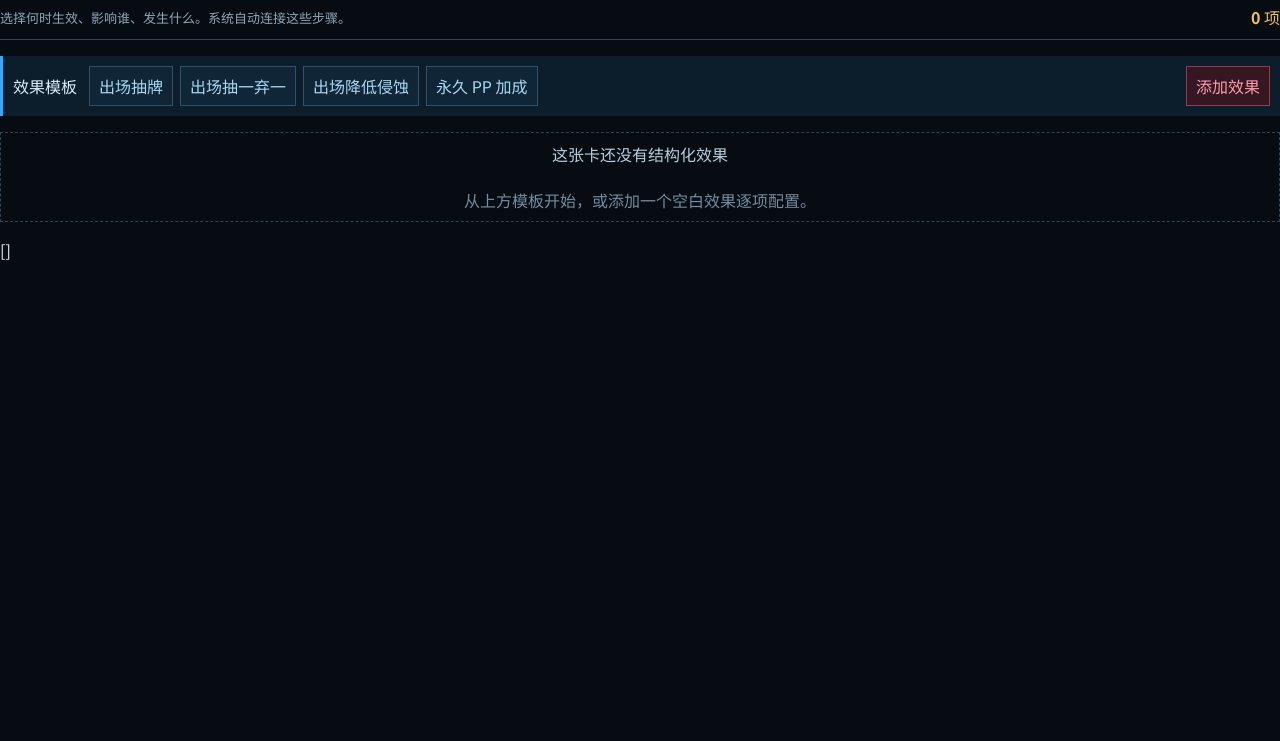
Test: EffectBuilder › marks incomplete and unsupported custom nodes as blocking
Step 1. Click the button "添加效果" → {"x": 1228, "y": 86}, box [1186,66,1270,106]
(page scrolled)
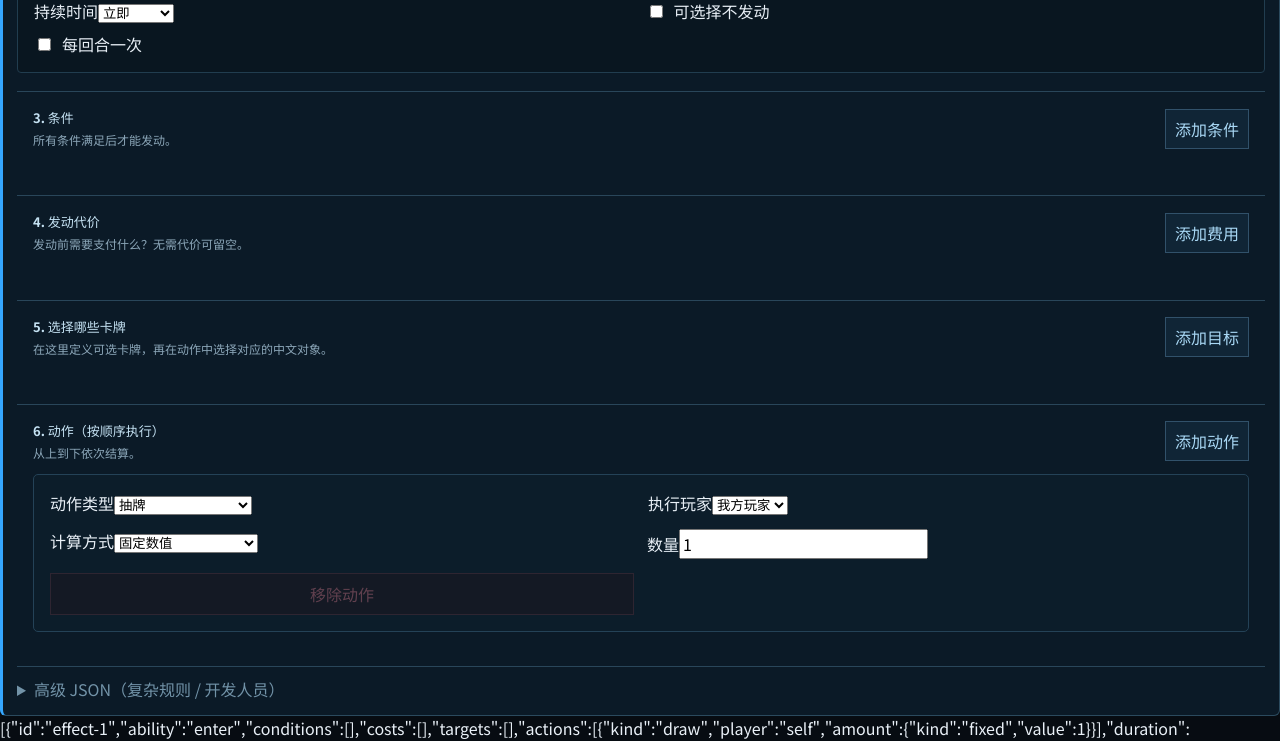
Step 2. Select "特殊规则" in the dropdown labelled "动作类型" → {"x": 183, "y": 506}, box [114,496,252,515]
(page scrolled)
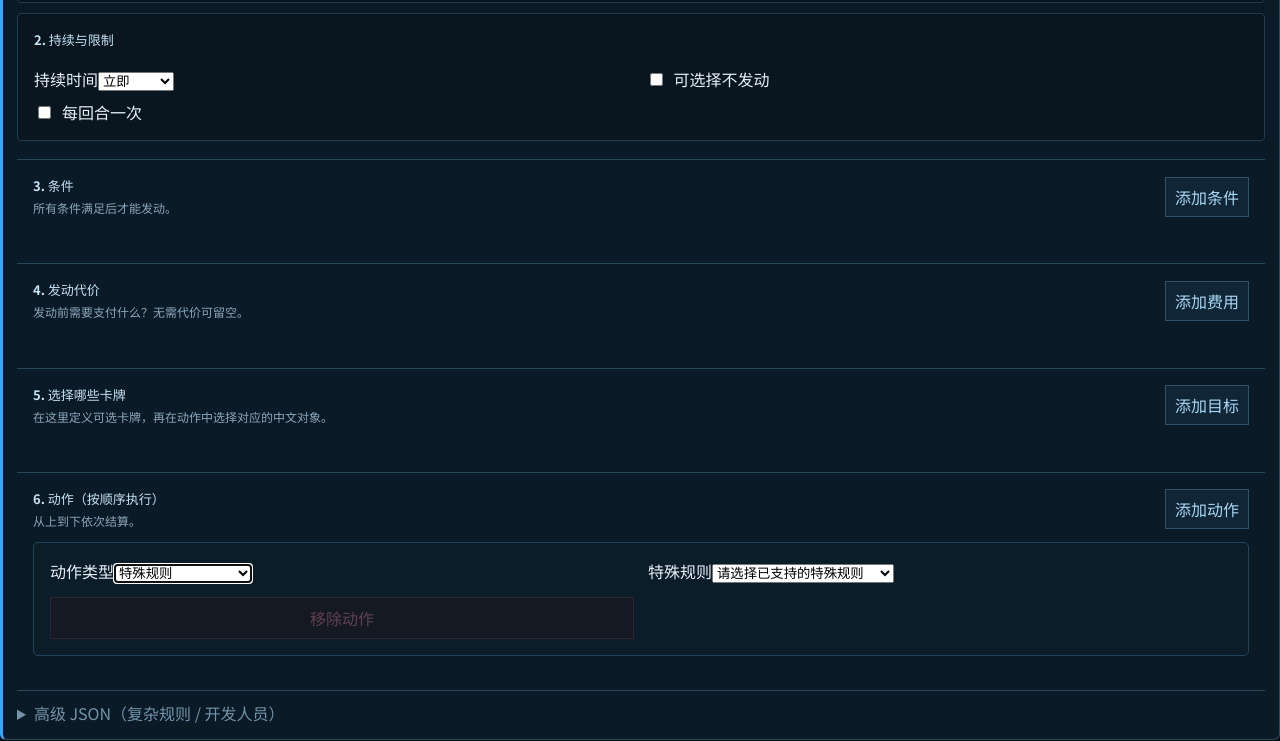
Step 3. Select "速攻" in the dropdown labelled "特殊规则" → {"x": 803, "y": 574}, box [712,564,894,583]
(page scrolled)
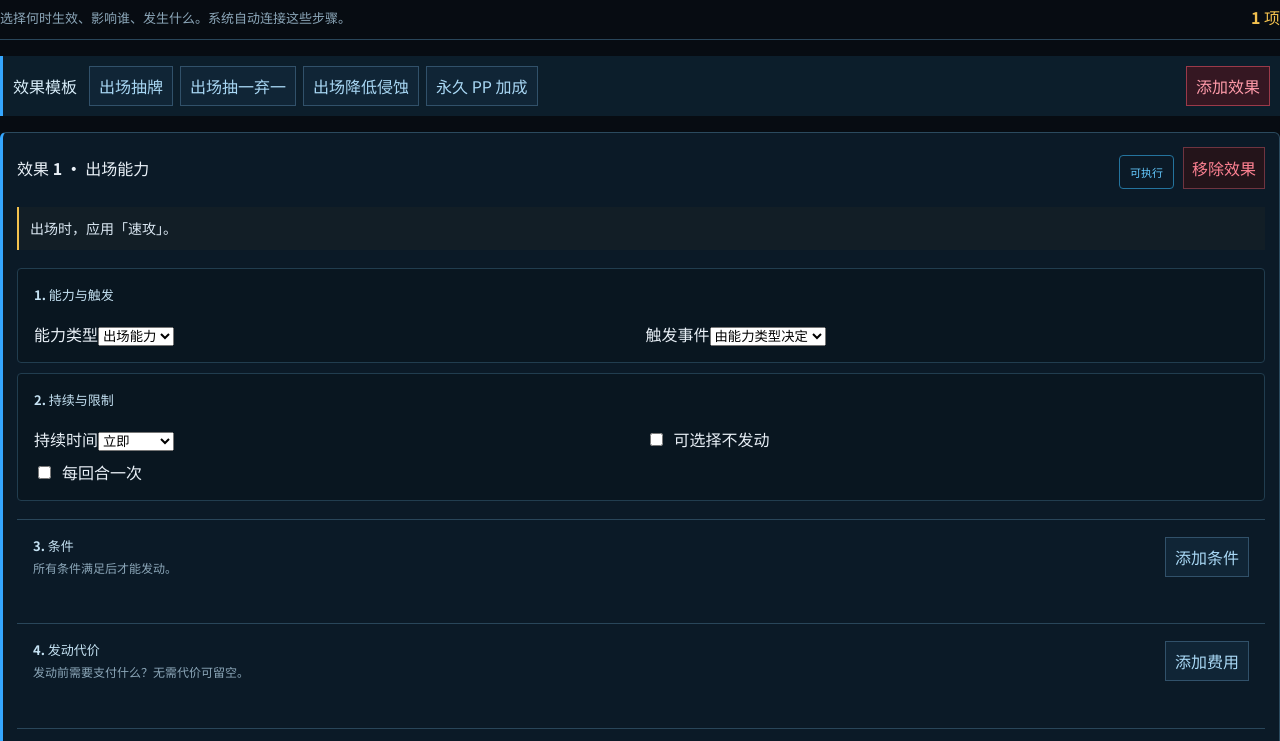
Expected: the text "可执行" is shown, [1119,155,1174,189]
